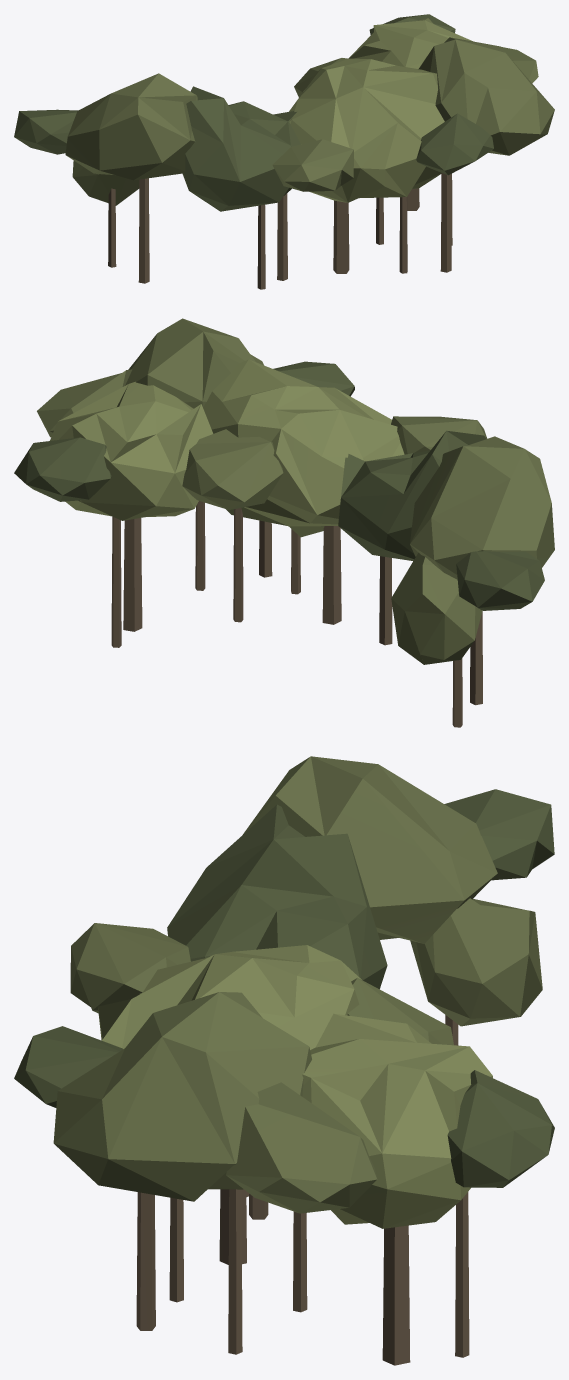
Rendered from tree002.gltf.
The picture shows the model from 3 angles, top to bottom: view 1: azimuth 30°, elevation 25°; view 2: azimuth 150°, elevation 25°; view 3: azimuth 270°, elevation 25°; orthographic projection. The views are drawn at different scales.
Parts seen in each view (by area): view 1: node_tree002_-146872; view 2: node_tree002_-146872; view 3: node_tree002_-146872.
Boxes of the visible parts, box(x1,y1,x2,y2) form: node_tree002_-146872: box(14, 14, 554, 289); node_tree002_-146872: box(14, 318, 554, 727); node_tree002_-146872: box(14, 756, 554, 1365).
Size of the model in its own units: 14.65 by 6.32 by 8.57.
Materials: 1 (1 with a texture image).
